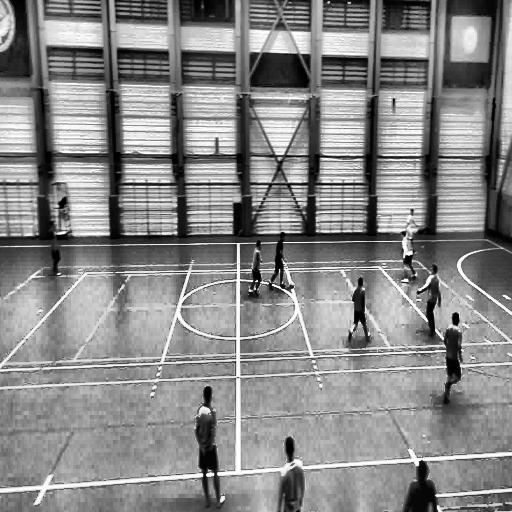ball: (290, 282, 295, 289)
player: (195, 387, 226, 510), (276, 435, 303, 512), (401, 458, 439, 512), (443, 311, 464, 404), (417, 265, 441, 338), (347, 277, 371, 343), (269, 232, 288, 290), (401, 229, 416, 282), (249, 238, 262, 298), (49, 220, 61, 274), (406, 207, 420, 245)
